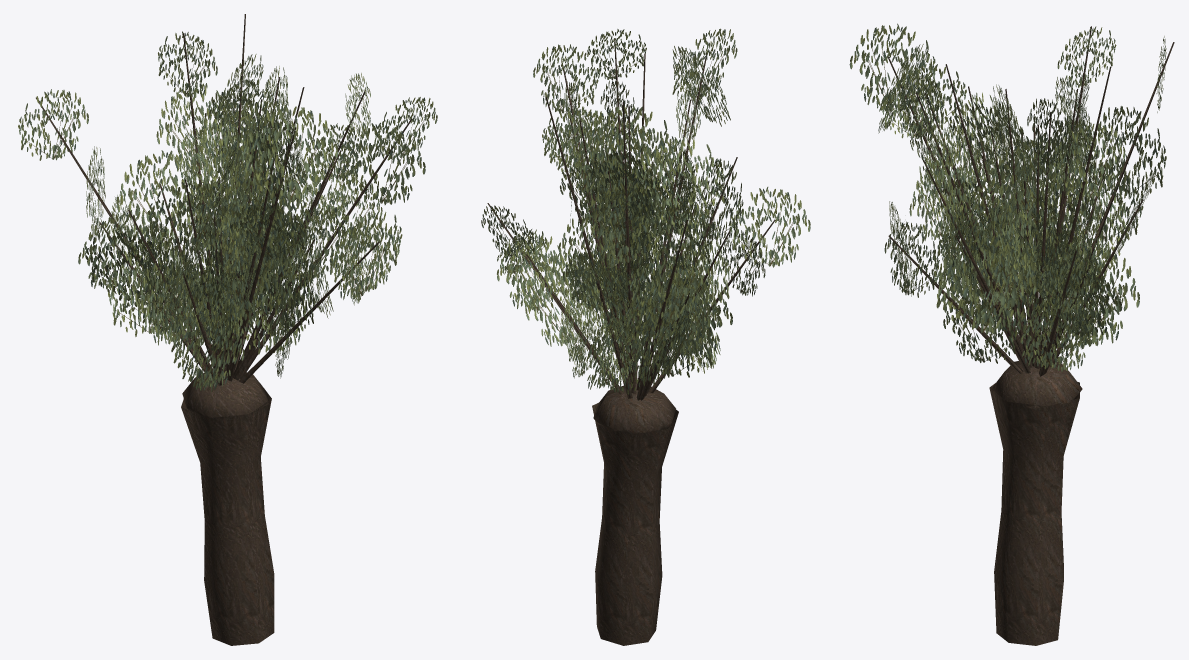
The model's file is tpl_yard_old_yard_pollard.glb.
3 views of the same model, side by side, from view 1: azimuth 30°, elevation 25°; view 2: azimuth 150°, elevation 25°; view 3: azimuth 270°, elevation 25° (orthographic). The views are drawn at different scales.
Visible parts, largest first — view 1: tpl_yard_old_yard_pollard; view 2: tpl_yard_old_yard_pollard; view 3: tpl_yard_old_yard_pollard.
Boxes of the visible parts, box(x1,y1,x2,y2) form: tpl_yard_old_yard_pollard: box(18, 14, 437, 645); tpl_yard_old_yard_pollard: box(481, 28, 810, 645); tpl_yard_old_yard_pollard: box(849, 23, 1174, 645).
Size of the model in its own units: 3.45 by 6.32 by 3.15.
Materials: 2 (2 with a texture image).
